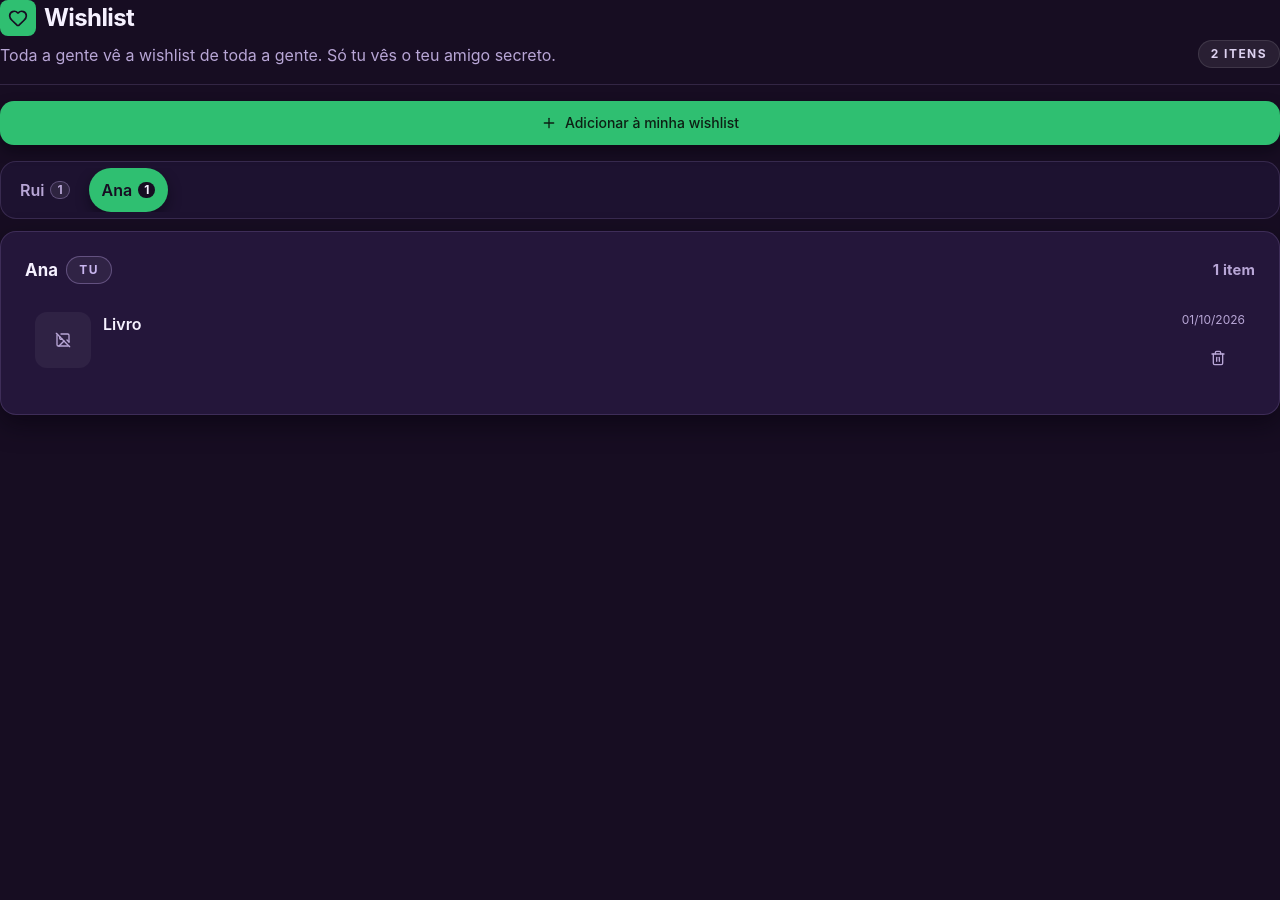
Test: CanhoesWishlistModule › removes your own item after confirming
What coordinates should you click on to do the following:
click the button named "Apagar item"
I would click on:
 (1223, 358)
Its box is x1=1201 y1=336 x2=1245 y2=380.
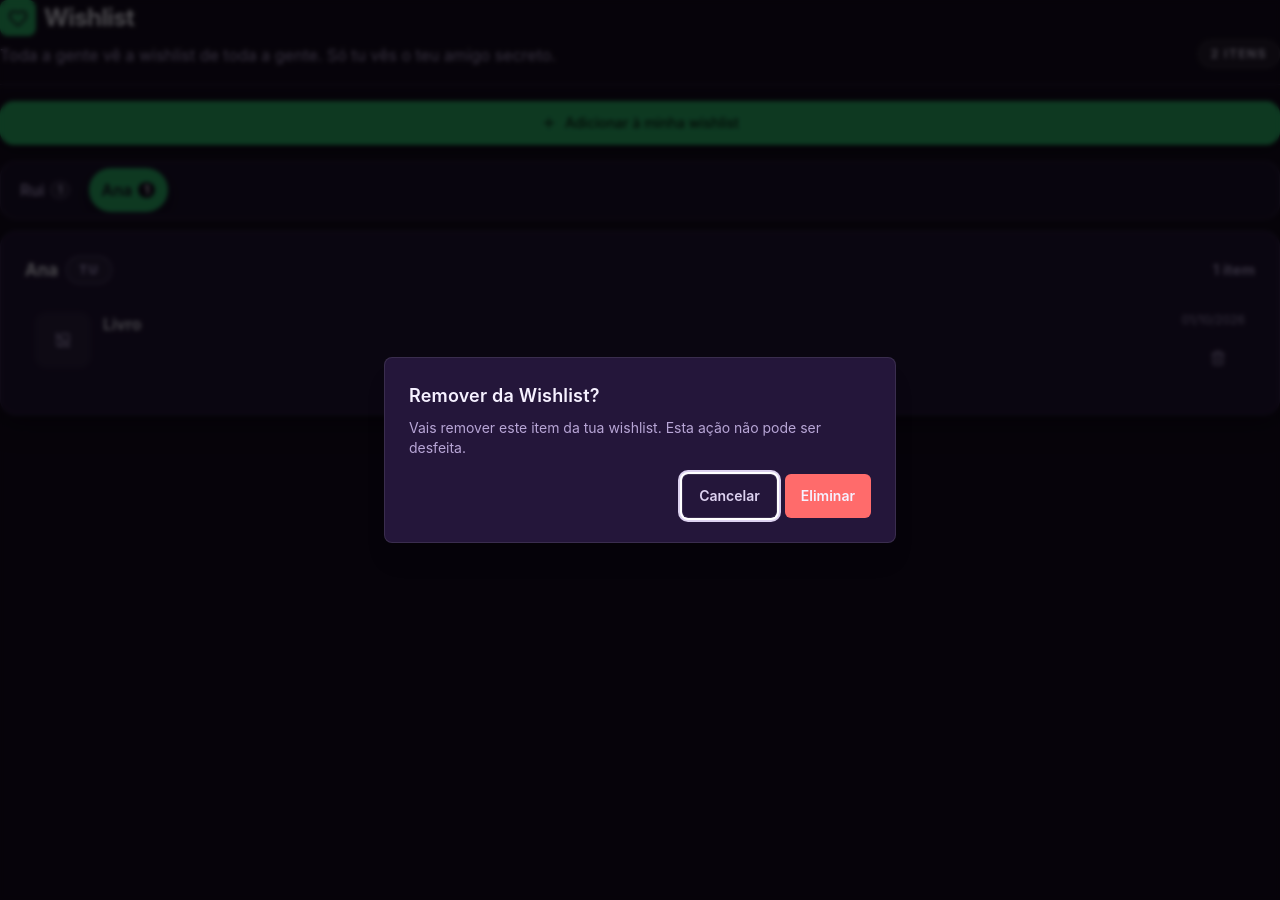
What coordinates should you click on to do the following:
click the button "Eliminar"
I would click on:
 (828, 496)
Its box is x1=785 y1=474 x2=871 y2=518.
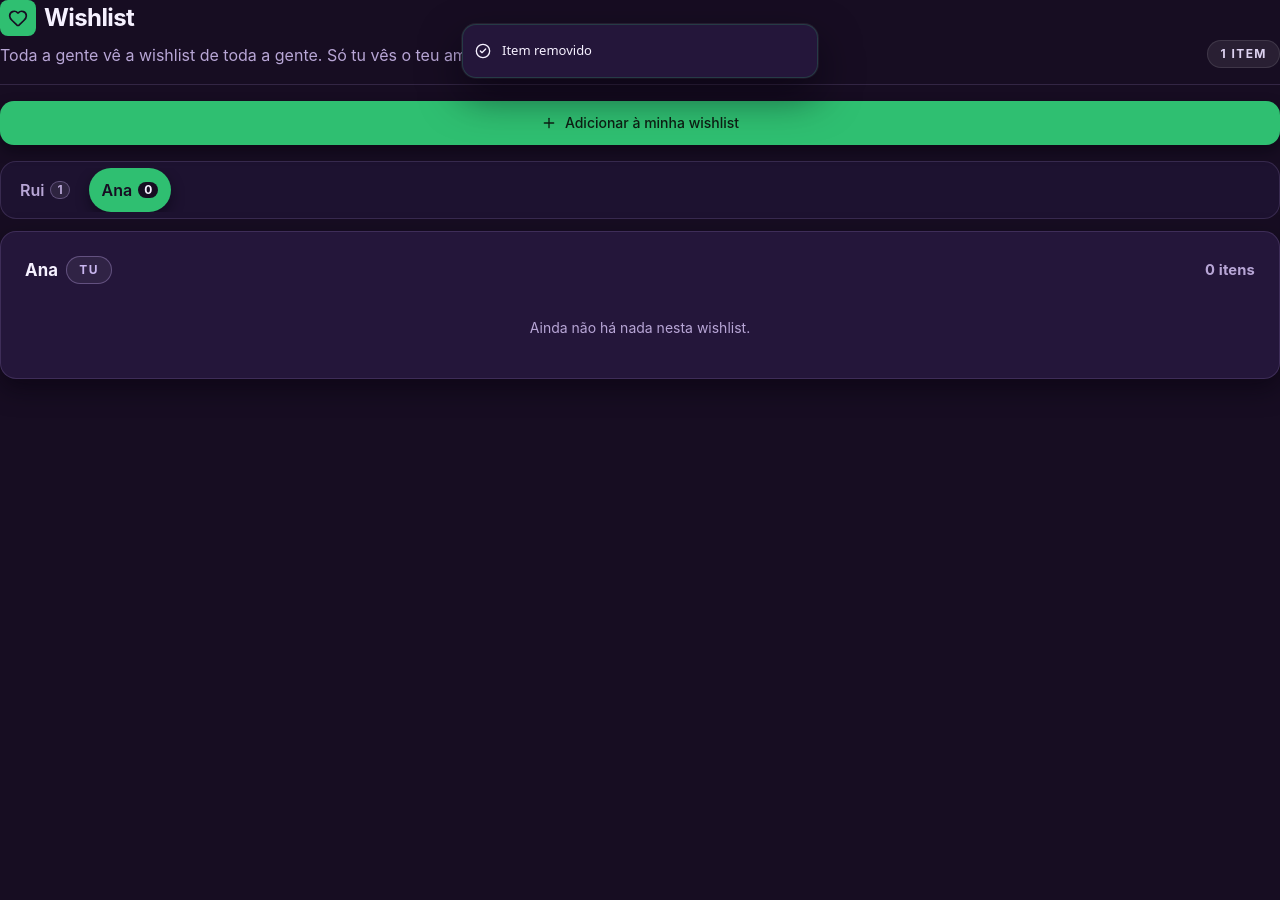
Check: the text "Item removido" is shown, box x1=502 y1=41 x2=592 y2=60
Check: the text "Livro" is gone
